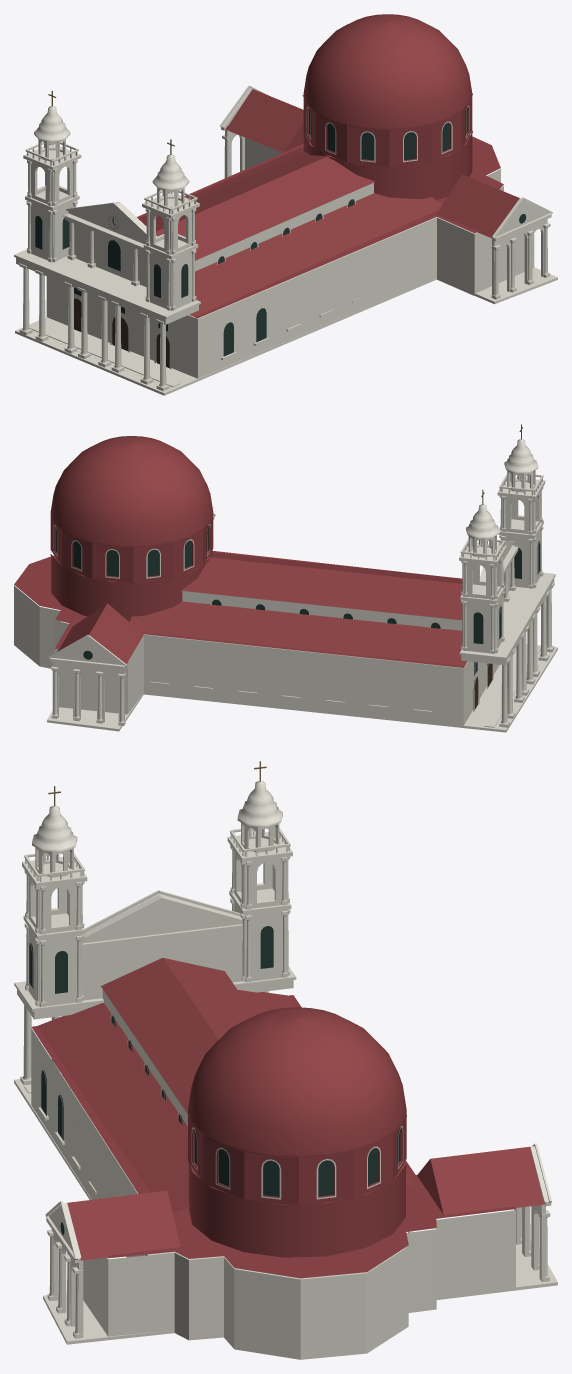
The model's file is catedral-de-alajuela-far.glb.
3 renders of one model, top to bottom at view 1: azimuth 30°, elevation 25°; view 2: azimuth 150°, elevation 25°; view 3: azimuth 270°, elevation 25°, orthographic. The views are drawn at different scales.
Parts seen in each view (by area): view 1: catedral-de-alajuela-0-wall, catedral-de-alajuela-0-roof, catedral-de-alajuela-0-glass, catedral-de-alajuela-0-door; view 2: catedral-de-alajuela-0-wall, catedral-de-alajuela-0-roof, catedral-de-alajuela-0-glass; view 3: catedral-de-alajuela-0-roof, catedral-de-alajuela-0-wall, catedral-de-alajuela-0-glass.
Part boxes in pixels (<box>): catedral-de-alajuela-0-wall: <box>14,85,557,395</box>; catedral-de-alajuela-0-roof: <box>137,14,519,318</box>; catedral-de-alajuela-0-glass: <box>35,108,526,356</box>; catedral-de-alajuela-0-door: <box>74,298,169,367</box>; catedral-de-alajuela-0-wall: <box>14,439,557,732</box>; catedral-de-alajuela-0-roof: <box>14,436,467,667</box>; catedral-de-alajuela-0-glass: <box>55,525,540,675</box>; catedral-de-alajuela-0-roof: <box>31,958,544,1278</box>; catedral-de-alajuela-0-wall: <box>14,781,557,1359</box>; catedral-de-alajuela-0-glass: <box>29,926,400,1255</box>.
Size of the model in its own units: 75.56 by 35.55 by 56.45.
